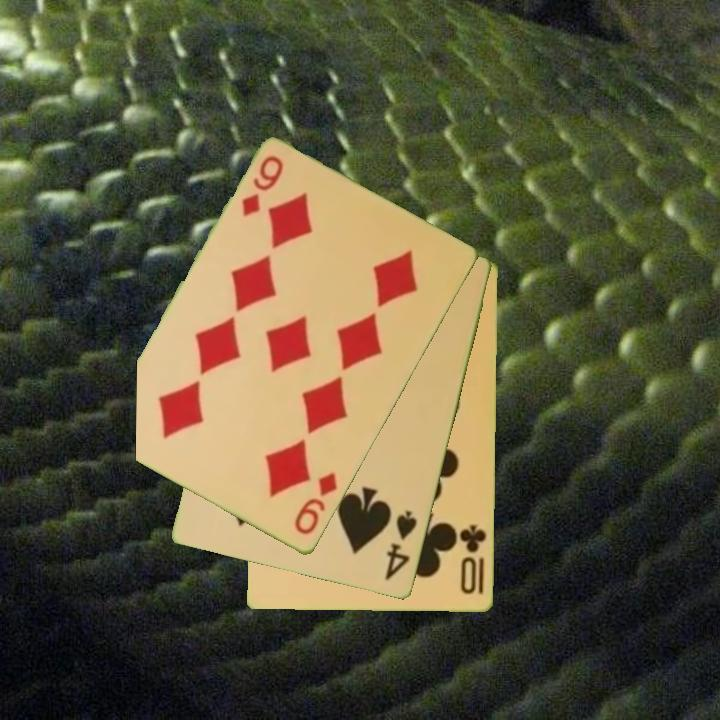10c: (456, 522, 489, 598)
4s: (382, 507, 421, 584)
9d: (291, 469, 341, 539), (238, 152, 287, 220)
